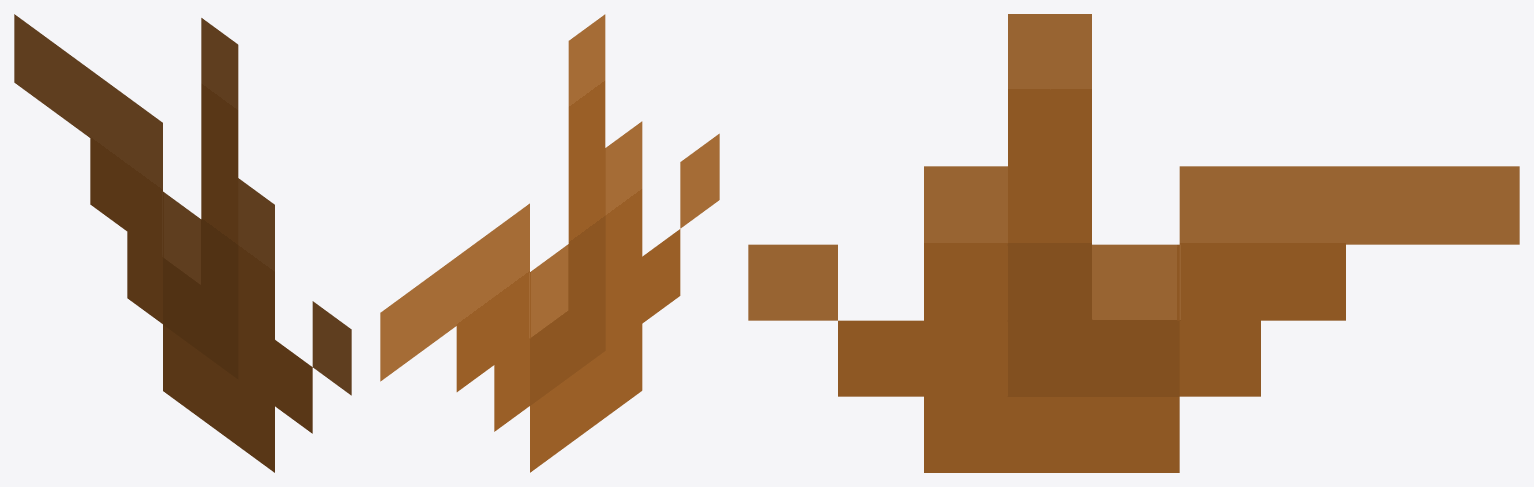
Rendered from Mesh_Deco_Herbe_1.glb.
3 views of the same model, side by side, from view 1: azimuth 30°, elevation 25°; view 2: azimuth 150°, elevation 25°; view 3: azimuth 270°, elevation 25° (orthographic). The views are drawn at different scales.
Parts seen in each view (by area): view 1: Mesh_Deco_Herbe_1; view 2: Mesh_Deco_Herbe_1; view 3: Mesh_Deco_Herbe_1.
Part boxes in pixels (box(x1,y1,x2,y2)): Mesh_Deco_Herbe_1: box(14, 14, 351, 472); Mesh_Deco_Herbe_1: box(380, 14, 719, 472); Mesh_Deco_Herbe_1: box(748, 14, 1519, 472).
Bounding box in the file's own units: 1.8e-08 × 0.4113 × 0.6265.
1 material, 1 textured.
